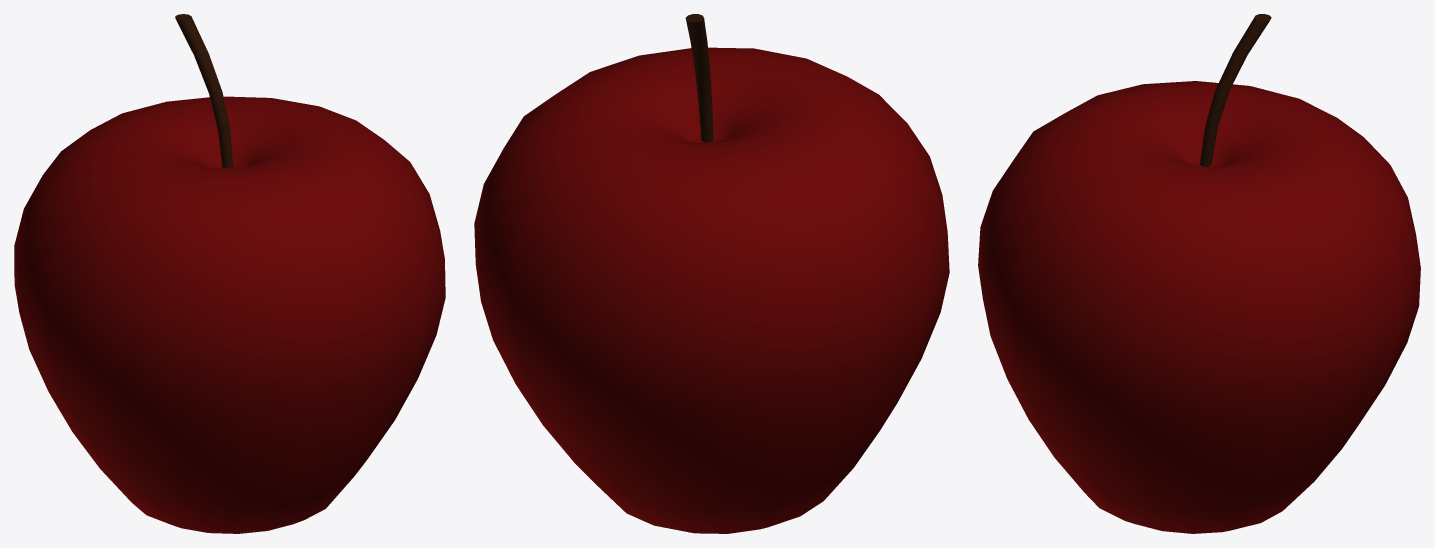
The model's file is 3D_Apple.FBX.
3 views of the same model, side by side, from view 1: azimuth 30°, elevation 25°; view 2: azimuth 150°, elevation 25°; view 3: azimuth 270°, elevation 25° (orthographic). The views are drawn at different scales.
Parts seen in each view (by area): view 1: 3D_Appel; view 2: 3D_Appel; view 3: 3D_Appel.
Part boxes in pixels (left/top/right/bottom): 3D_Appel: left=14, top=14, right=445, bottom=533; 3D_Appel: left=474, top=14, right=949, bottom=533; 3D_Appel: left=978, top=14, right=1420, bottom=533.
Bounding box in the file's own units: 50.43 × 60.17 × 50.34.
